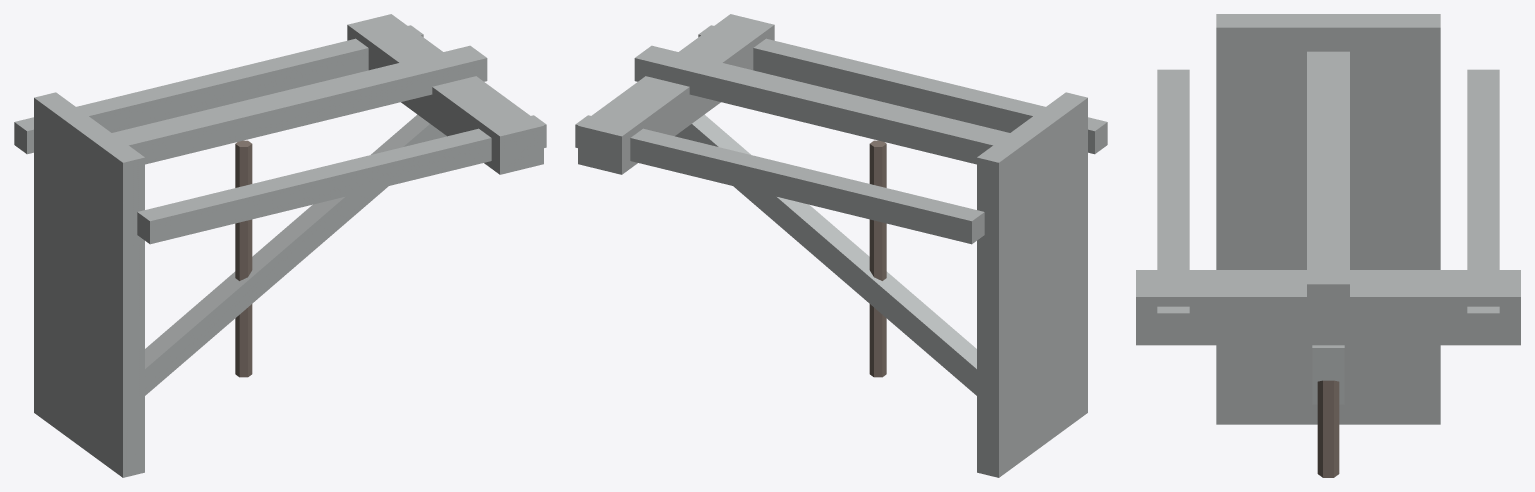
Rendered from dm_cablemount.glb.
3 renders of one model, left to right at view 1: azimuth 30°, elevation 25°; view 2: azimuth 150°, elevation 25°; view 3: azimuth 270°, elevation 25°, orthographic. The views are drawn at different scales.
Visible parts, largest first — view 1: dm_cablemount; view 2: dm_cablemount; view 3: dm_cablemount.
Boxes of the visible parts, x1,y1,x2,y2 form: dm_cablemount: [14, 14, 546, 477]; dm_cablemount: [575, 14, 1107, 477]; dm_cablemount: [1136, 14, 1520, 477].
Bounding box in the file's own units: 1.09 × 0.82 × 0.72.
